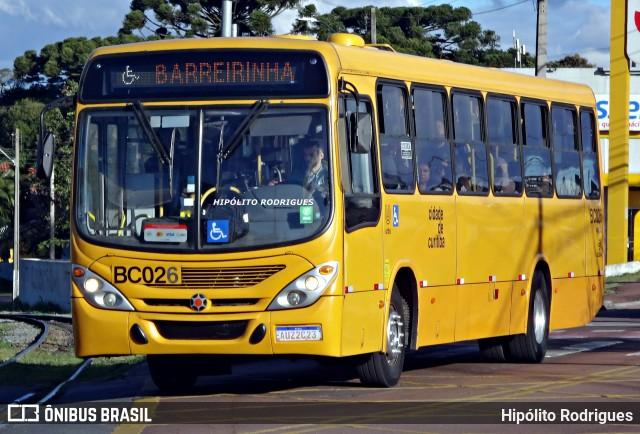BARREIRINHA: (146, 58, 297, 88)
